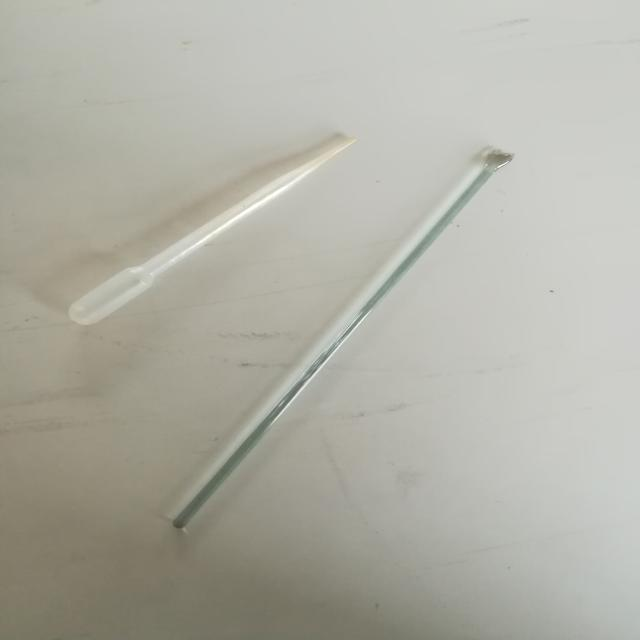Glass_Rod: (163, 137, 545, 548)
Pipette: (54, 87, 375, 359)
